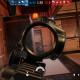Character: (38, 36, 42, 46)
Head: (39, 37, 41, 39)
